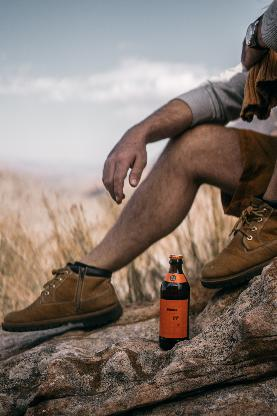Glass Bottle: (160, 254, 190, 350)
